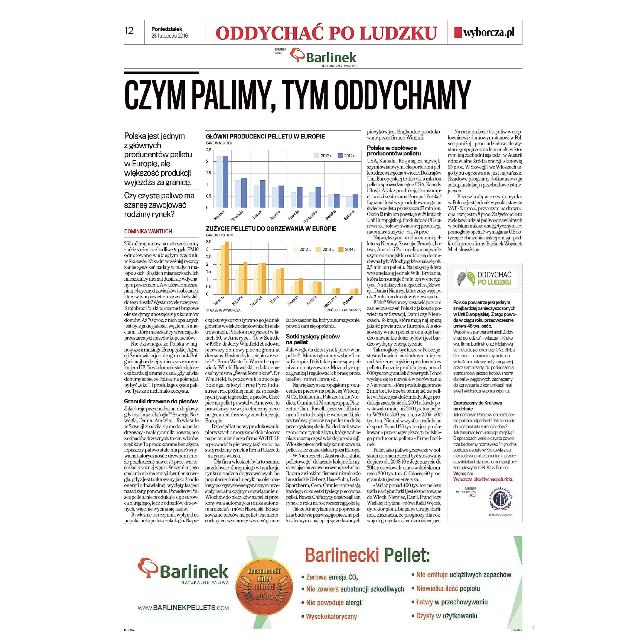article: (124, 70, 526, 526)
